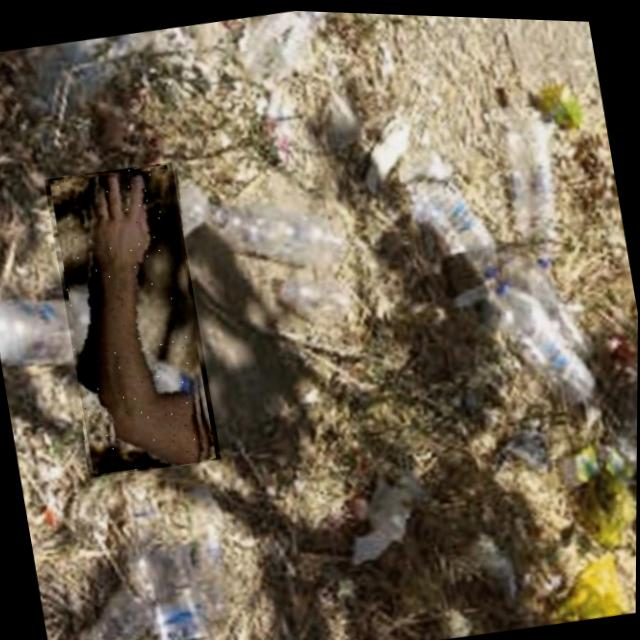Person in Rubble: (41, 157, 222, 480)
